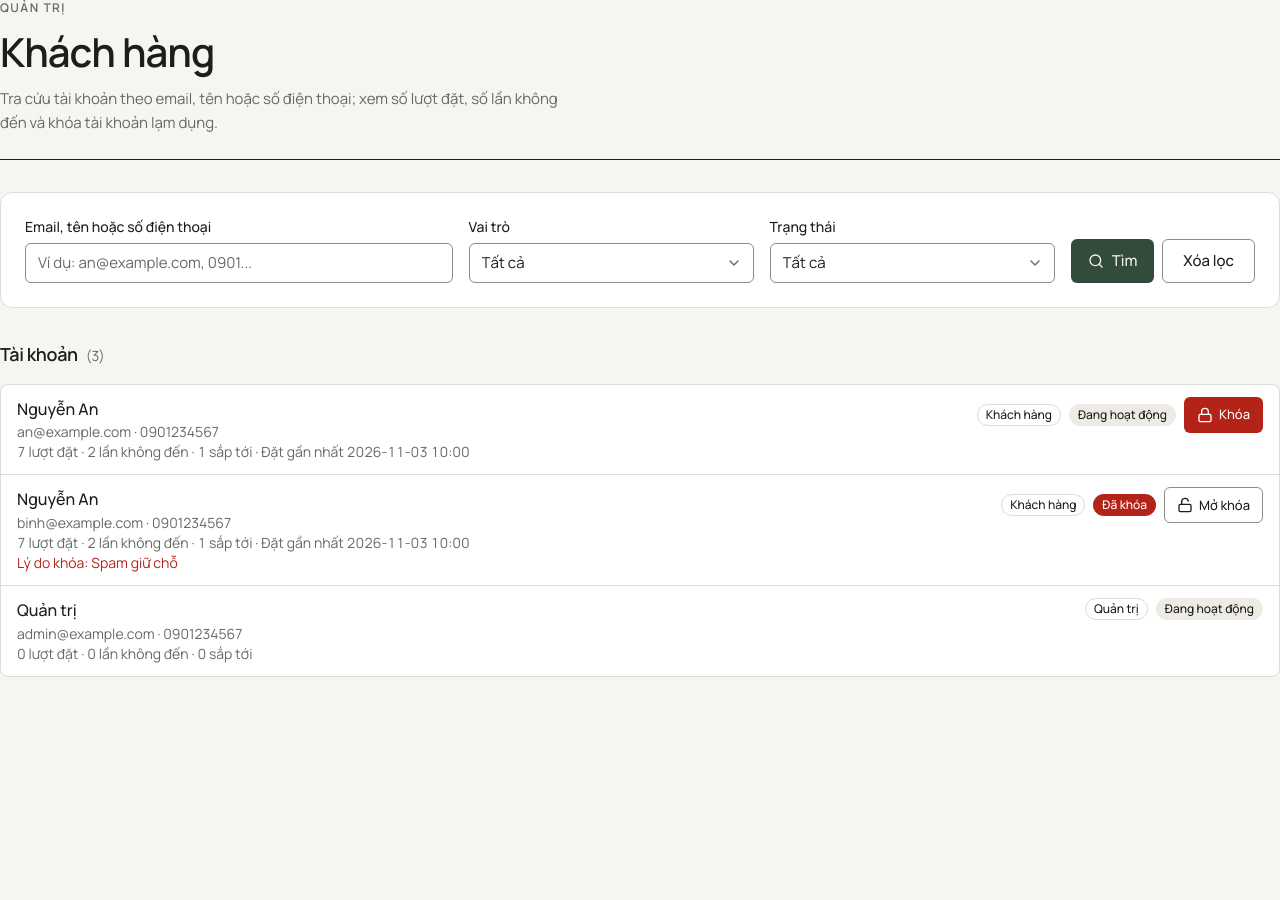
AdminUsersPage (CWB-79) › requires a reason, warns about upcoming bookings and lists them after locking
The width and height of the screenshot is (1280, 900).
Click the button with test id "user-toggle-user-1" at (1224, 415), box [1184, 397, 1263, 433]
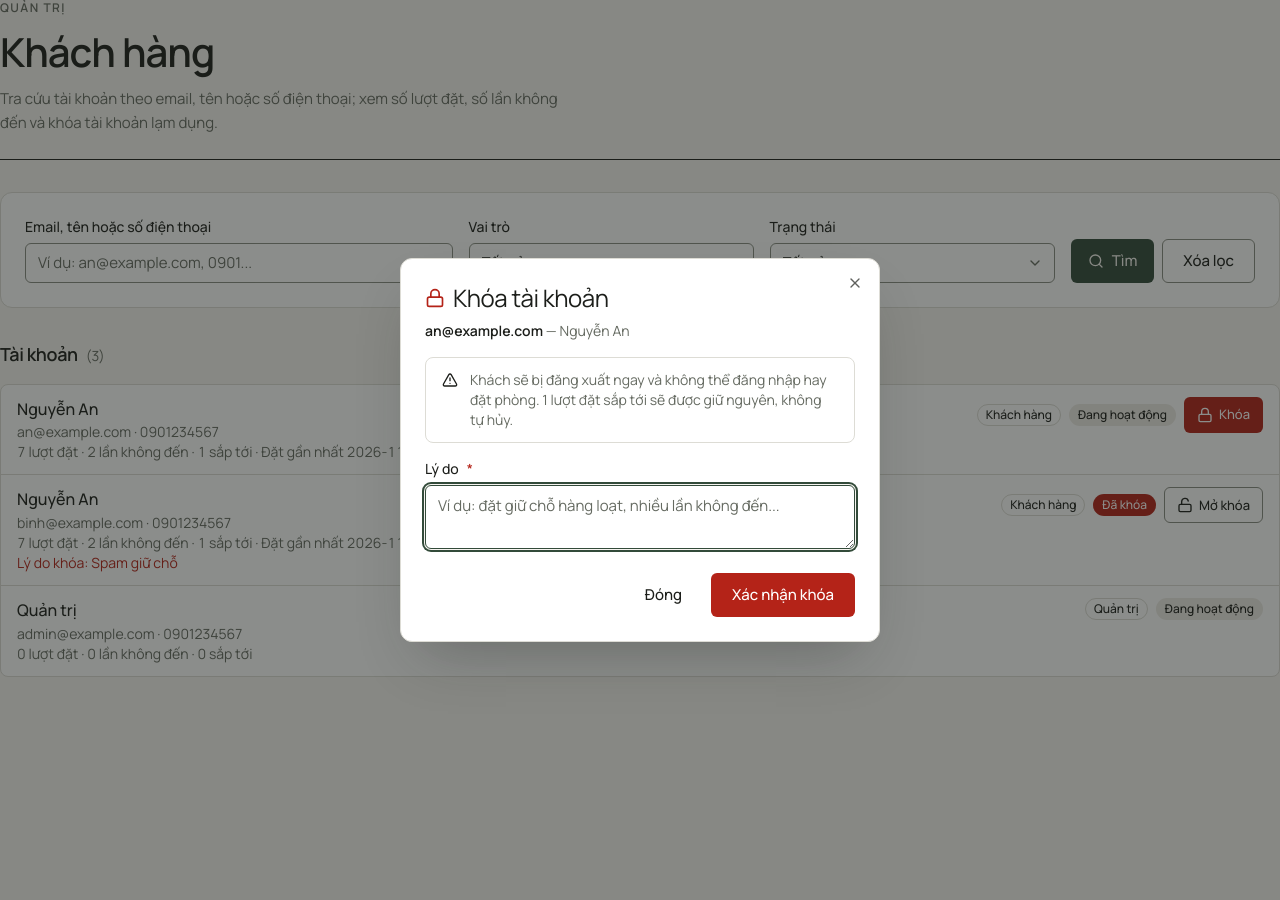
Result: the message with test id "lock-warning" shows "1 lượt đặt sắp tới sẽ được giữ nguyên, không tự hủy" at [470, 390, 822, 429]
Click the button with test id "user-status-submit" at (783, 595), box [711, 573, 855, 617]
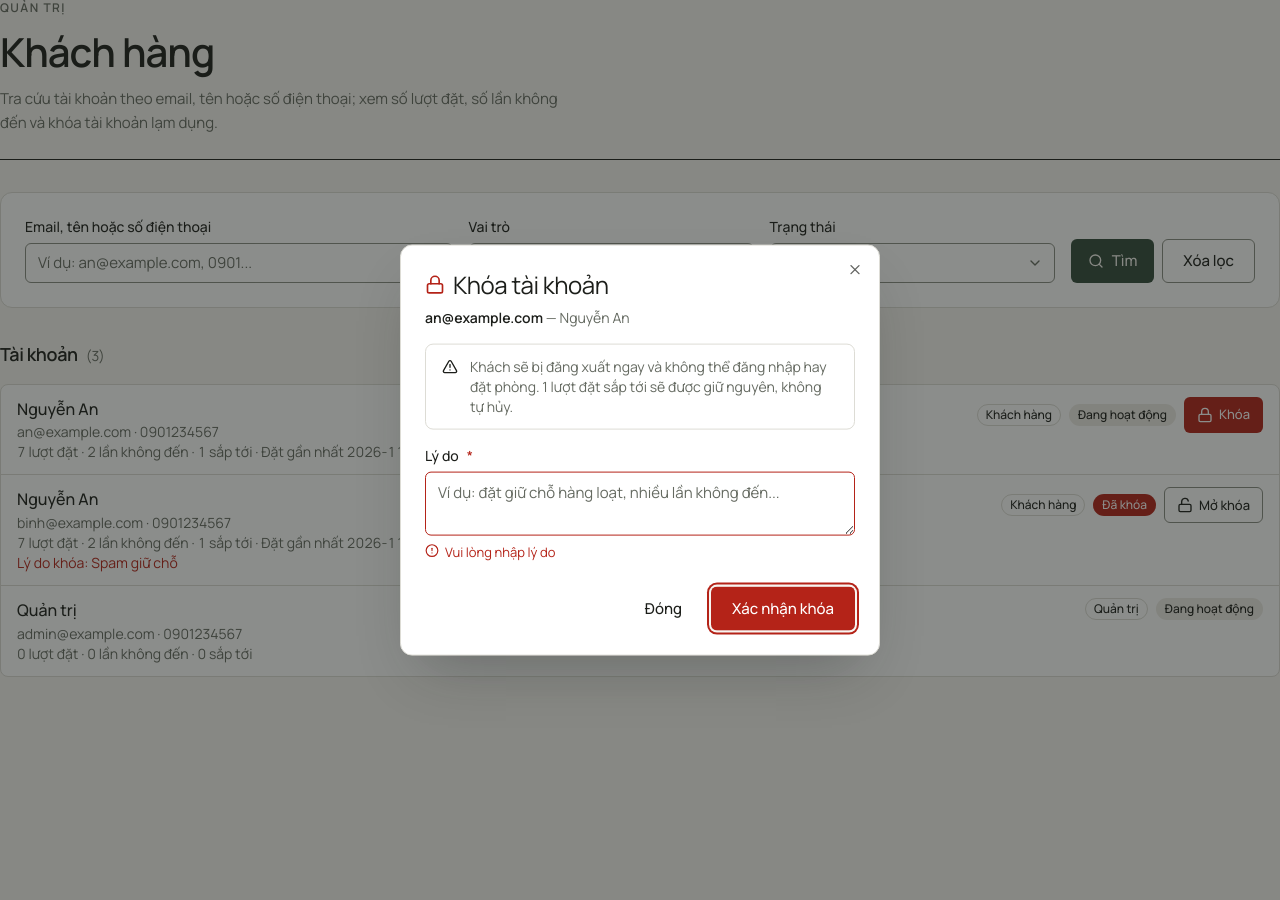
Result: the text "Vui lòng nhập lý do" is shown at [445, 542, 555, 562]
Type " Nhiều lần không đến " into the text box with test id "user-status-reason" at (640, 504), box [425, 472, 855, 536]
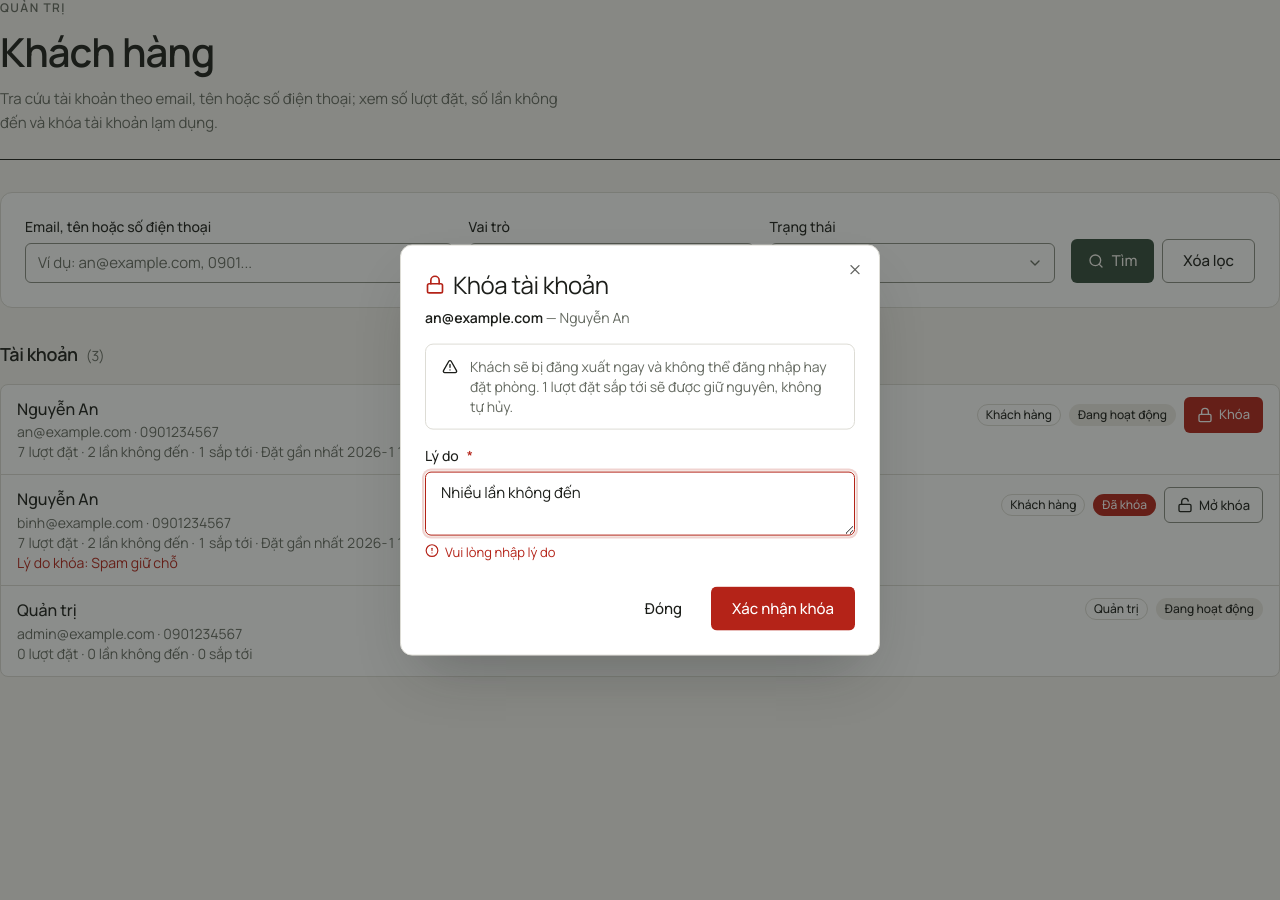
Click the button with test id "user-status-submit" at (783, 608), box [711, 586, 855, 630]
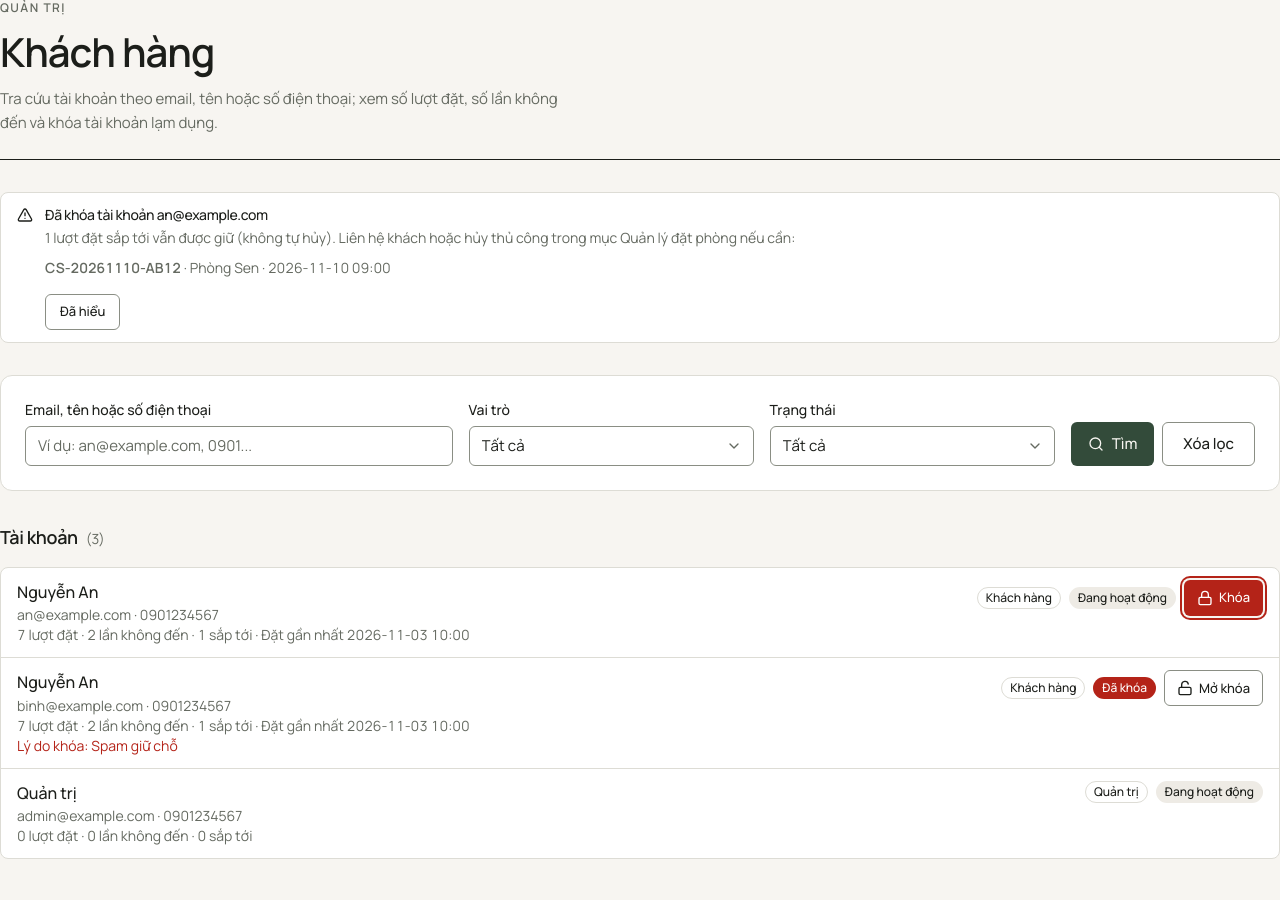
Result: the message with test id "lock-outcome" shows "CS-20261110-AB12 · Phòng Sen" at [0, 192, 1279, 343]
